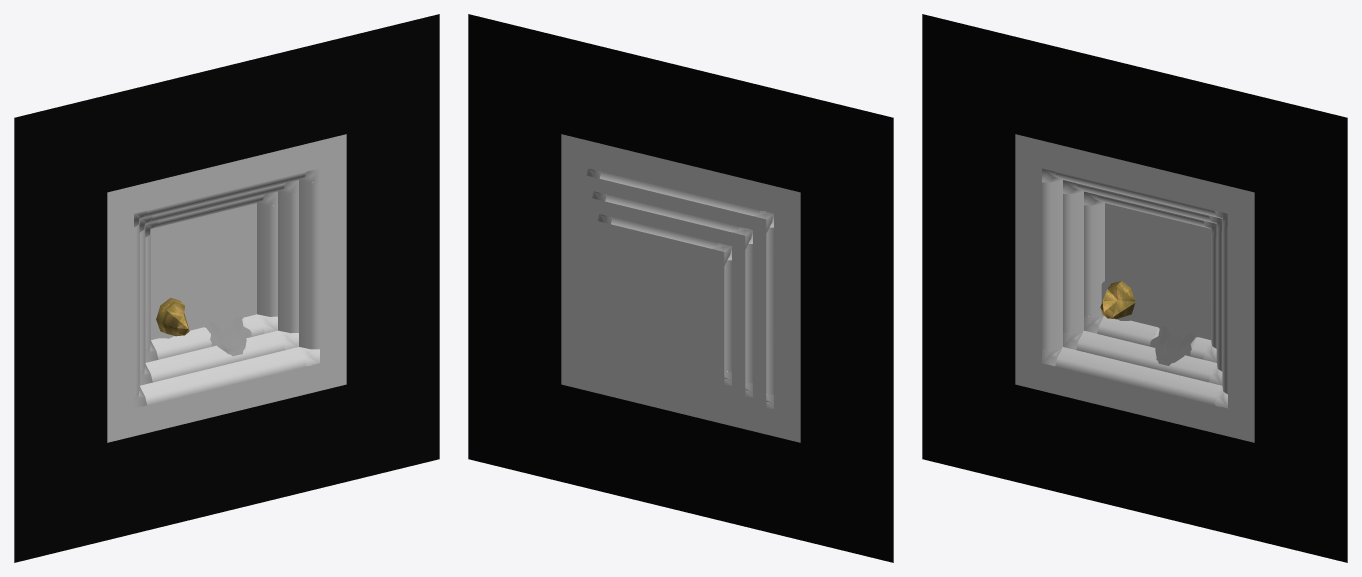
Rendered from Navel-Cave-West-3_03_00.obj.
3 views of the same model, side by side, from view 1: azimuth 30°, elevation 25°; view 2: azimuth 150°, elevation 25°; view 3: azimuth 330°, elevation 25° (orthographic).
Parts seen in each view (by area): view 1: map; view 2: map; view 3: map.
Part boxes in pixels (x1=…): map: x1=14, y1=14, x2=439, y2=562; map: x1=468, y1=14, x2=893, y2=562; map: x1=922, y1=14, x2=1347, y2=562.
Size of the model in its own units: 32 by 32 by 3.
